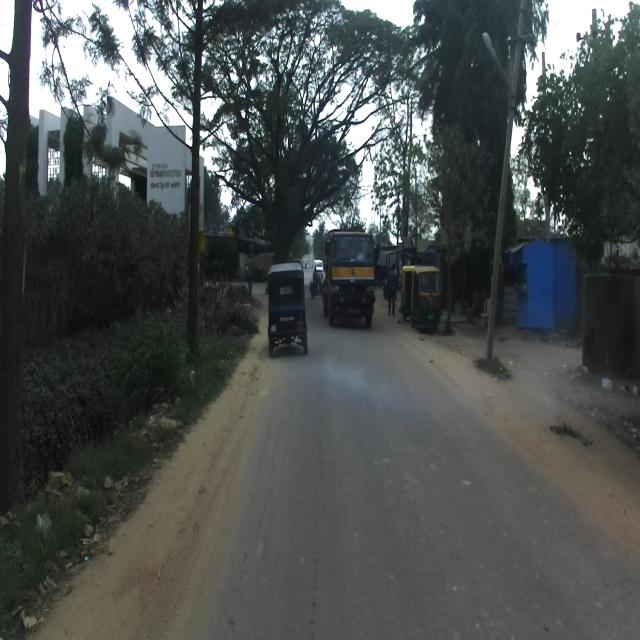auto ahead at: (268, 262, 309, 358), (402, 258, 442, 332)
electric pole ahead at: (185, 2, 207, 366)
truck ahead at: (327, 228, 376, 322)
